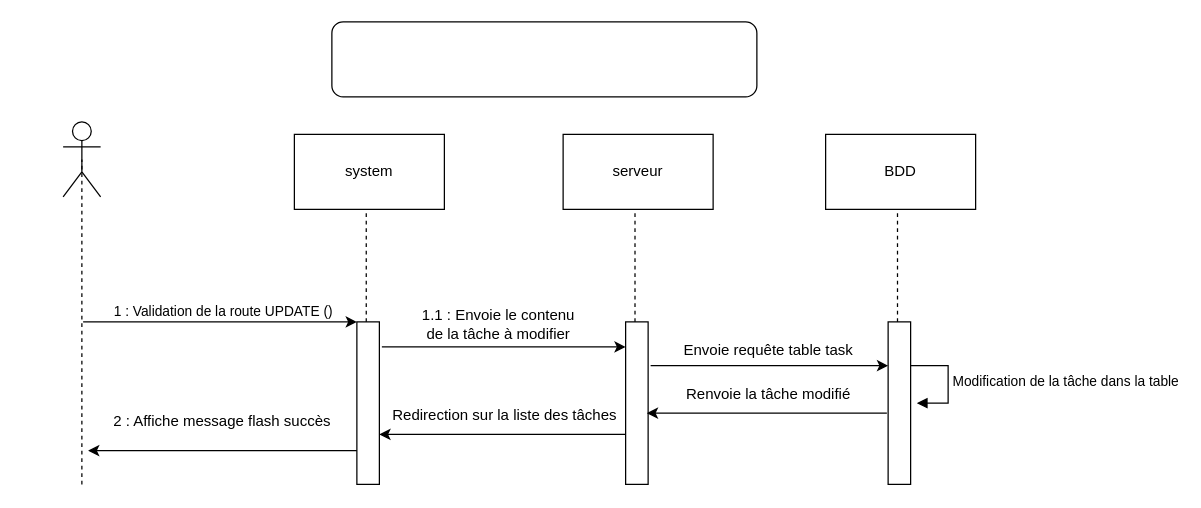
The diagram is 1201 pixels wide and 508 high, and some of its shapes have lost their labels. Each missing label, with the centre of its shape:
"Diagramme de séquence : Modication d'une tâche" goes at (544,59).
"Utilisateur ( User )" goes at (81,159).
